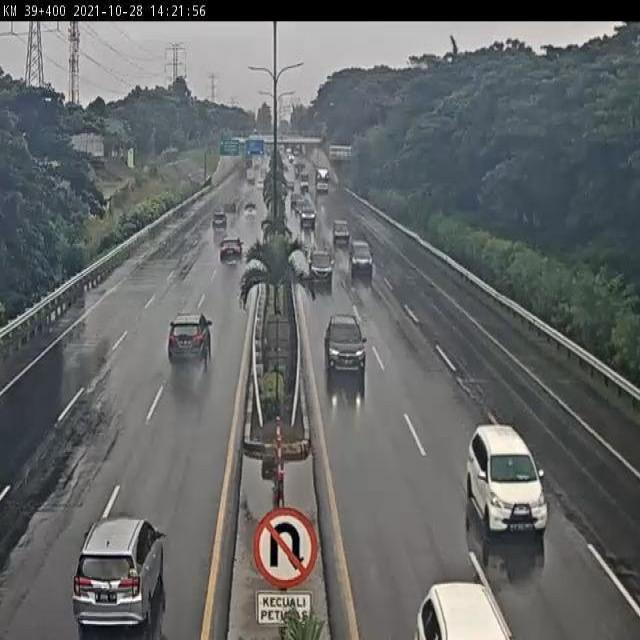car: (72, 517, 167, 632), (466, 424, 552, 533), (161, 310, 214, 366), (325, 314, 367, 378), (308, 249, 338, 284), (346, 240, 374, 275), (218, 233, 244, 266)
